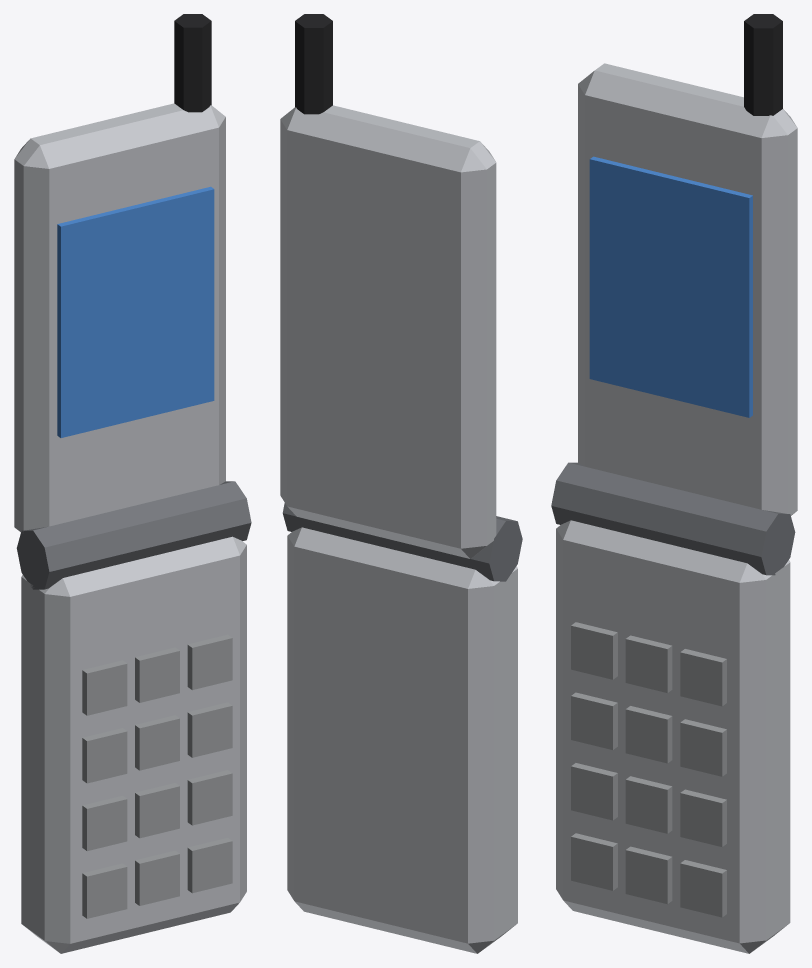
File: phone.flip.glb
3 views of the same model, side by side, from view 1: azimuth 30°, elevation 25°; view 2: azimuth 150°, elevation 25°; view 3: azimuth 330°, elevation 25° (orthographic). The views are drawn at different scales.
Parts seen in each view (by area): view 1: base, lid, lid-screen, hinge, aerial, key22, key30, key20, key32, key00, key12, key02 (+5 smaller); view 2: lid, base, hinge, aerial; view 3: base, lid, lid-screen, hinge, aerial, key11, key01, key21, key31, key10, key00, key02 (+5 smaller).
Part boxes in pixels (left/top/right/bottom): base: left=21, top=536, right=246, bottom=953; lid: left=14, top=103, right=225, bottom=532; lid-screen: left=57, top=186, right=214, bottom=437; hinge: left=16, top=481, right=251, bottom=589; aerial: left=174, top=14, right=211, bottom=112; key22: left=187, top=702, right=232, bottom=757; key30: left=82, top=660, right=127, bottom=715; key20: left=82, top=728, right=127, bottom=783; key32: left=187, top=634, right=232, bottom=689; key00: left=82, top=863, right=127, bottom=918; key12: left=187, top=770, right=232, bottom=825; key02: left=187, top=838, right=232, bottom=893; lid: left=280, top=105, right=496, bottom=558; base: left=287, top=527, right=517, bottom=953; hinge: left=282, top=503, right=522, bottom=581; aerial: left=295, top=14, right=332, bottom=114; base: left=556, top=520, right=790, bottom=953; lid: left=578, top=63, right=797, bottom=515; lid-screen: left=589, top=156, right=752, bottom=417; hinge: left=551, top=462, right=795, bottom=575; aerial: left=744, top=14, right=782, bottom=115; key11: left=625, top=776, right=672, bottom=833; key01: left=625, top=846, right=672, bottom=904; key21: left=625, top=706, right=672, bottom=763; key31: left=625, top=635, right=672, bottom=692; key10: left=571, top=763, right=617, bottom=820; key00: left=571, top=833, right=617, bottom=890; key02: left=680, top=860, right=726, bottom=917.
Bounding box in the file's own units: 0.05 × 0.207 × 0.023.
